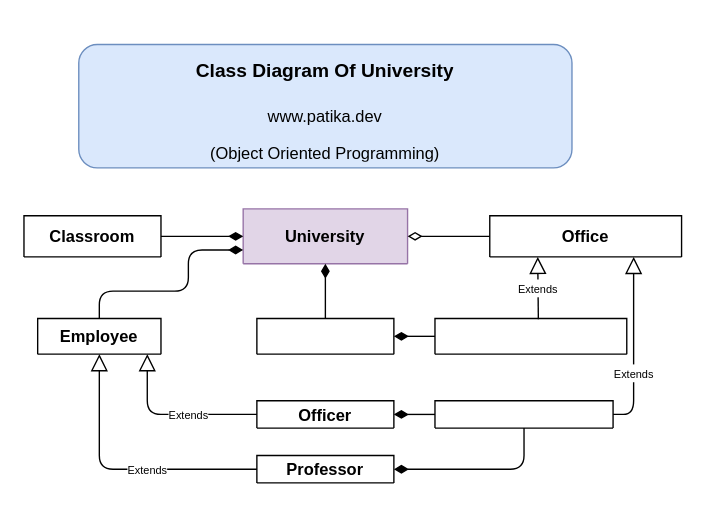
This 706x510 diagram has some shape labels left out. The shapes that lost their labels are listed below. From the top down, each one's centre as x and y in pixels, then its label:
At (325,335): "Department".
At (530,335): "DepartmentOffice".
At (523,413): "EmployeeOffice".
